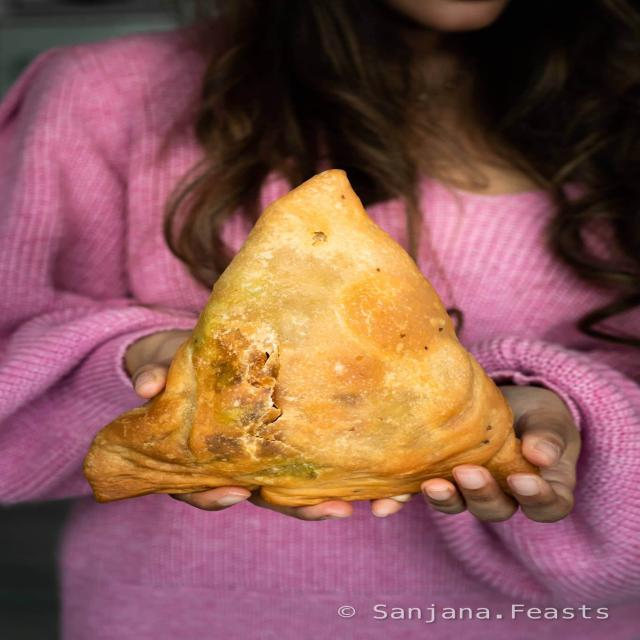SAMOSA: (83, 162, 539, 502)
